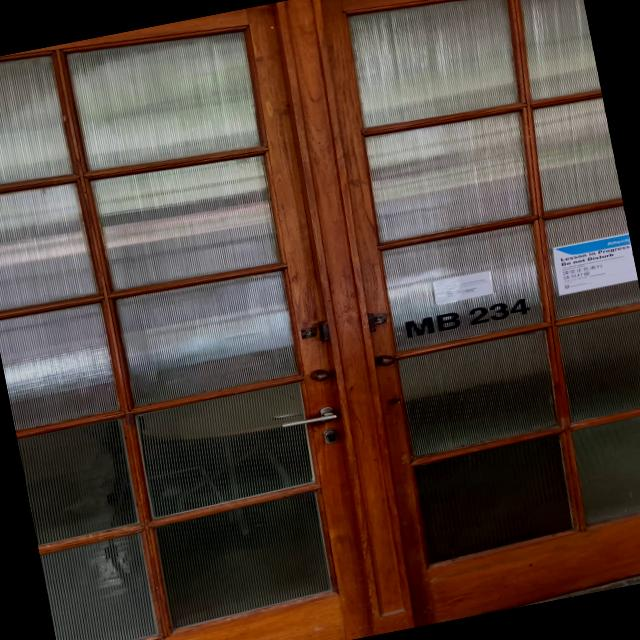room234Window: (396, 292, 534, 344)
